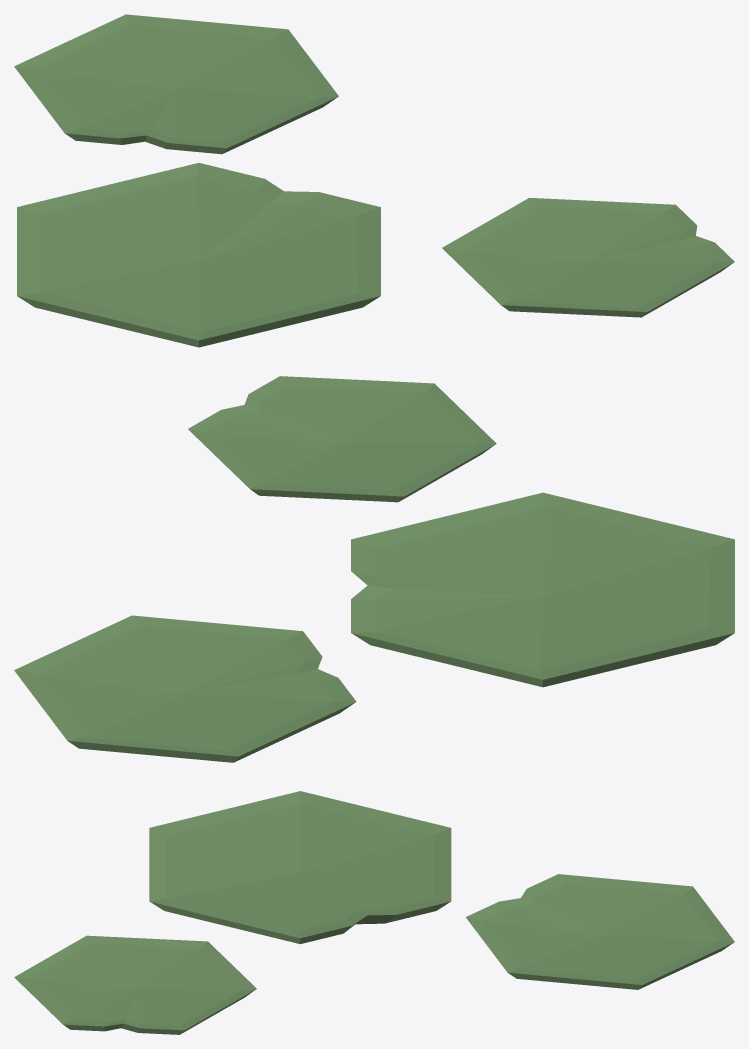
Rendered from Water Lily Harvested.fbx.
The picture shows the model from 3 angles, top to bottom: view 1: azimuth 30°, elevation 25°; view 2: azimuth 150°, elevation 25°; view 3: azimuth 270°, elevation 25°; orthographic projection. The views are drawn at different scales.
Visible parts, largest first — view 1: water_lily; view 2: water_lily; view 3: water_lily.
Part boxes in pixels (x1,y1,x2,y2): water_lily: [14, 14, 734, 347]; water_lily: [14, 376, 734, 762]; water_lily: [14, 791, 734, 1034].
Bounding box in the file's own units: 1.07 × 0.0289 × 1.36.
